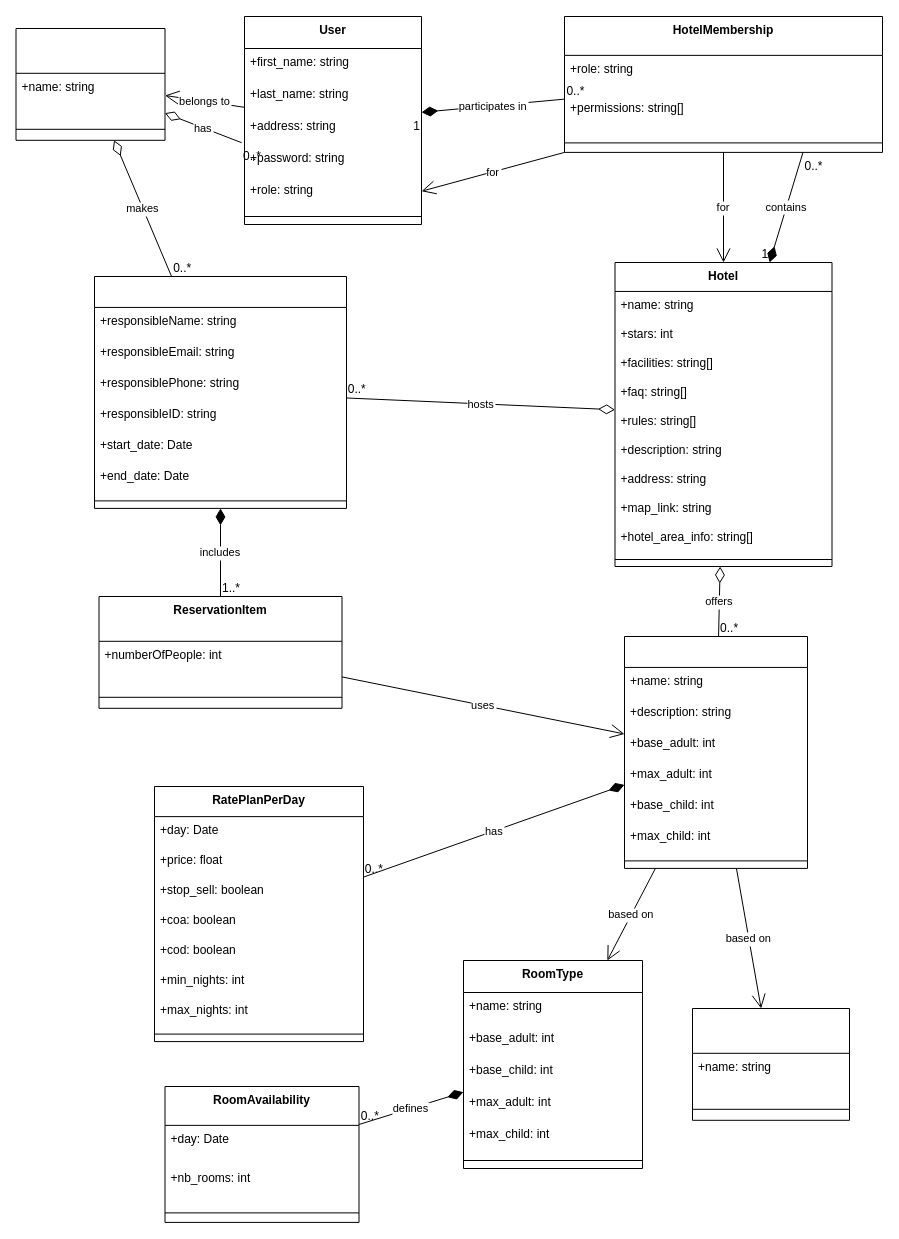
This 899x1239 diagram has some shape labels left out. The box of each missing label's shape, as (x1, y1, x2, y2) in pixels:
Agency: (15, 28, 165, 140)
RatePlan: (624, 636, 808, 868)
RateType: (692, 1008, 850, 1120)
Reservation: (94, 276, 346, 508)
